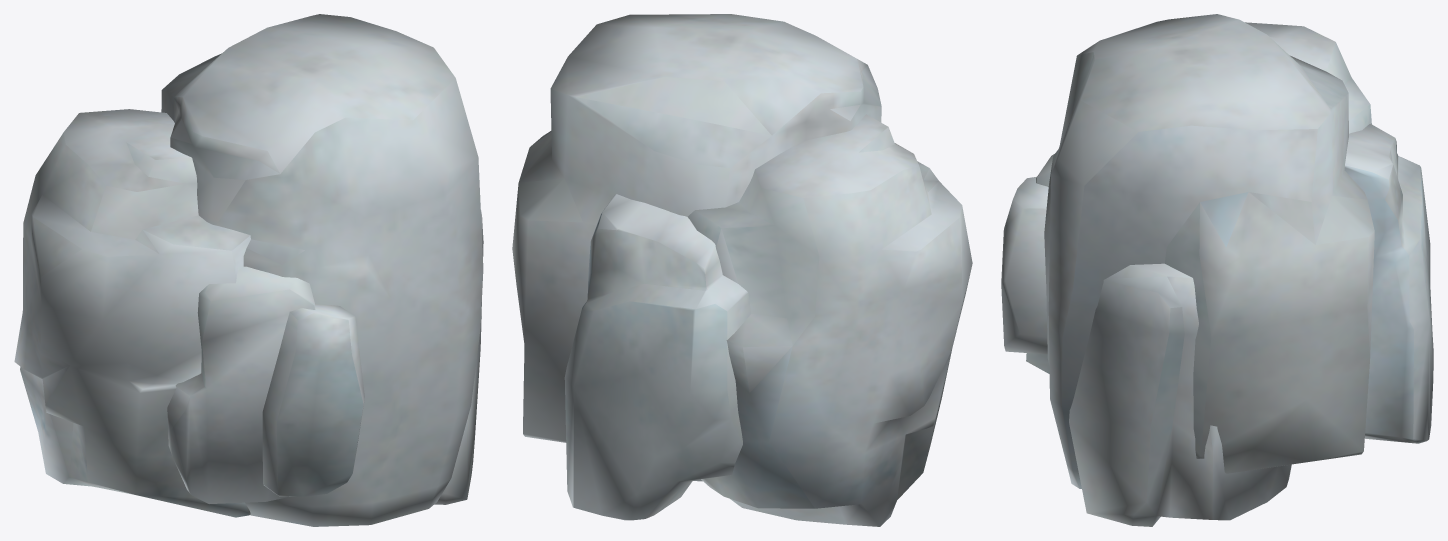
The model's file is P_RockSpire_RockClumpC01.obj.
3 renders of one model, left to right at view 1: azimuth 30°, elevation 25°; view 2: azimuth 150°, elevation 25°; view 3: azimuth 270°, elevation 25°, orthographic. The views are drawn at different scales.
Size of the model in its own units: 22.19 by 20.66 by 19.68.
